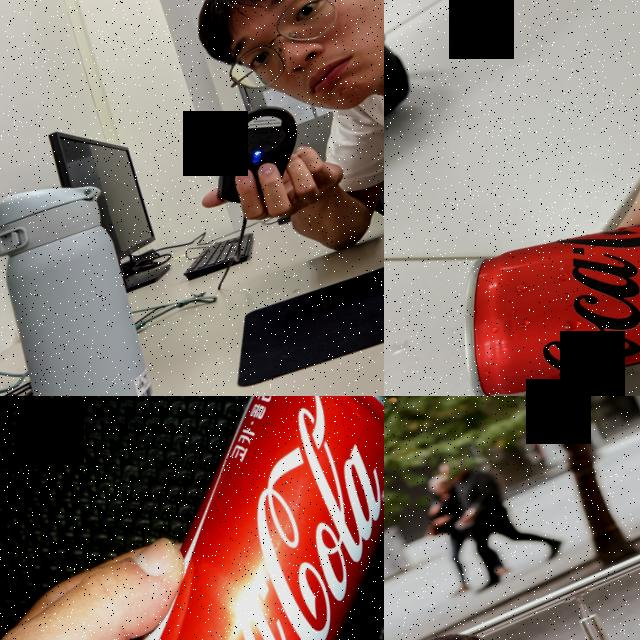can: (0, 396, 384, 640), (426, 82, 640, 396)
